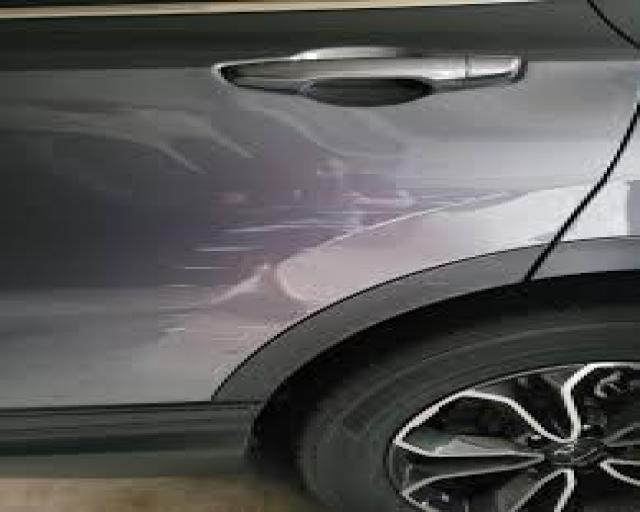scratch: (117, 164, 581, 354)
